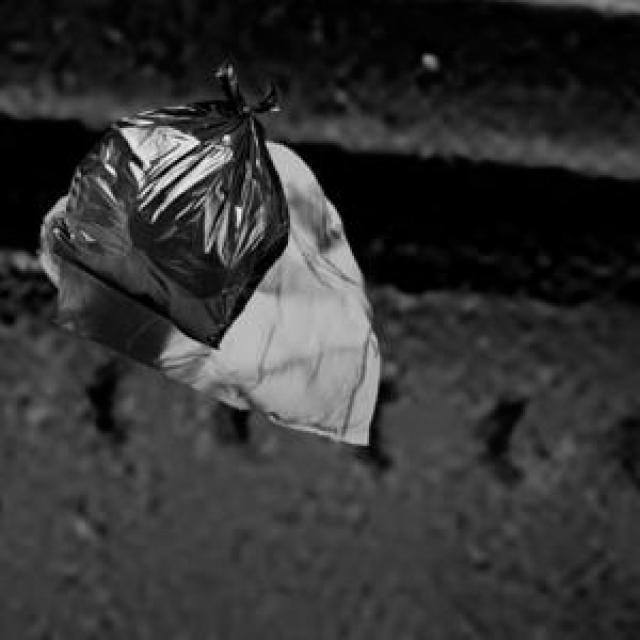miscellaneous trash: (45, 60, 286, 344)
